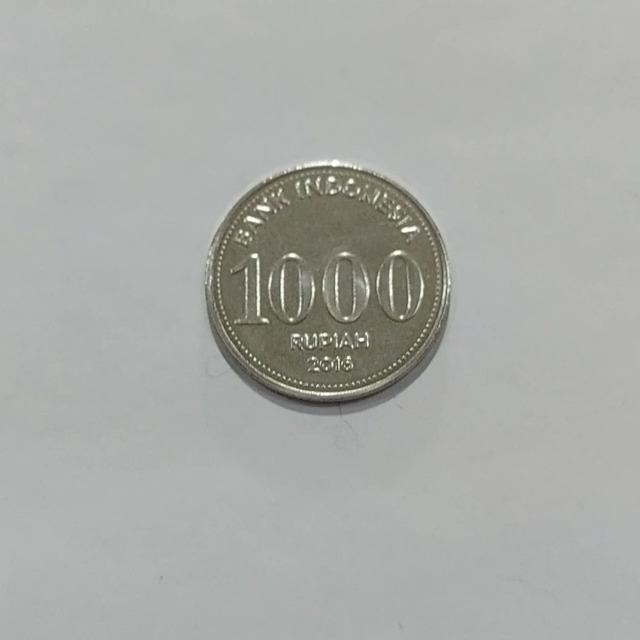Rp100: (202, 159, 452, 405)
